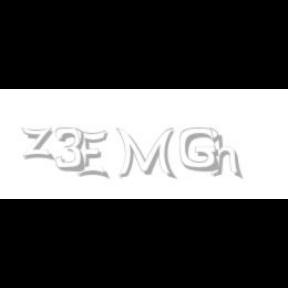3: (56, 128, 86, 172)
E: (75, 128, 108, 180)
G: (179, 128, 219, 172)
M: (115, 128, 174, 180)
h: (210, 128, 244, 180)
z: (21, 128, 57, 160)
